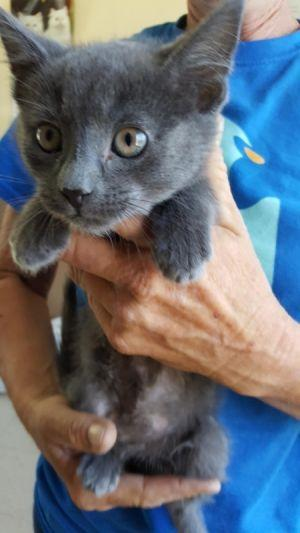rblue: (1, 1, 252, 259)
